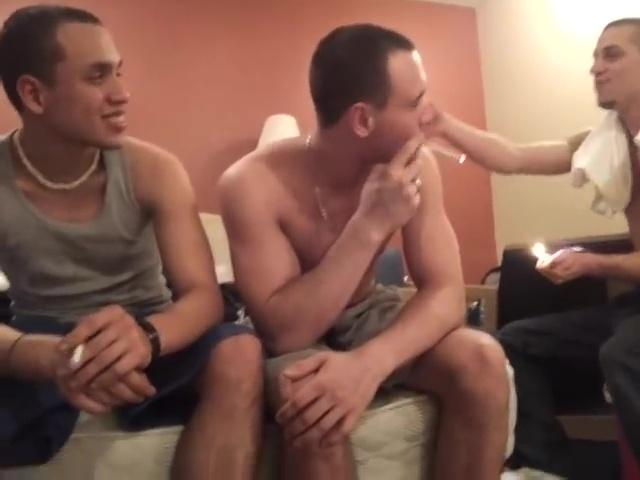cigarette: (426, 143, 468, 165), (66, 341, 88, 369)
